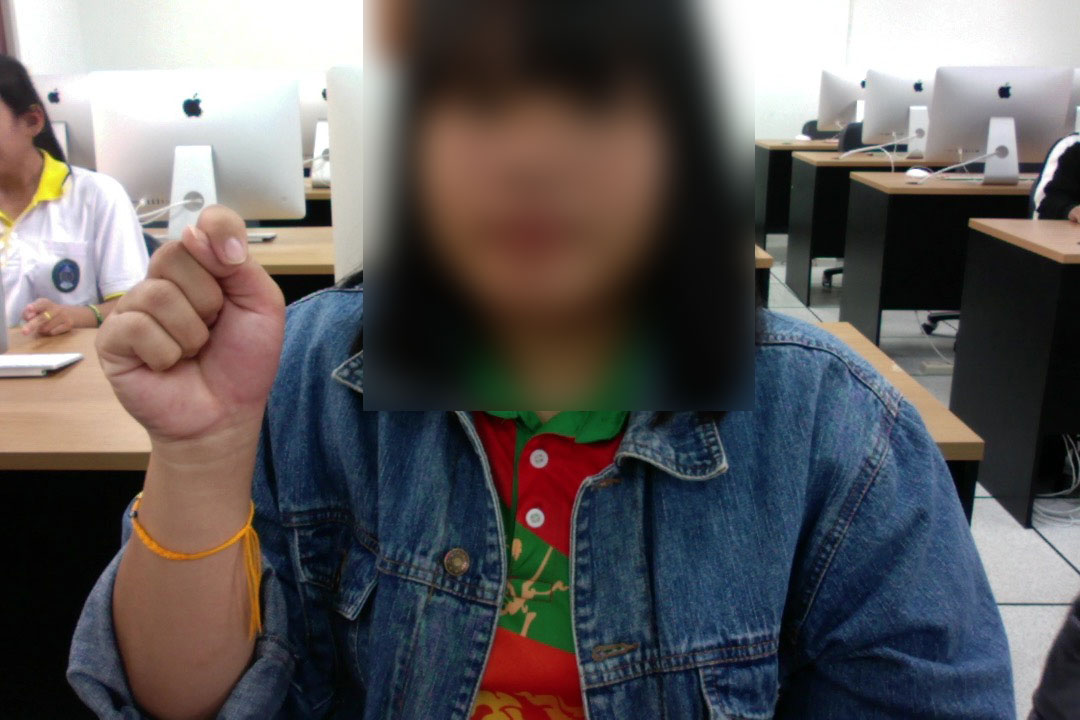tor: (70, 185, 304, 491)
